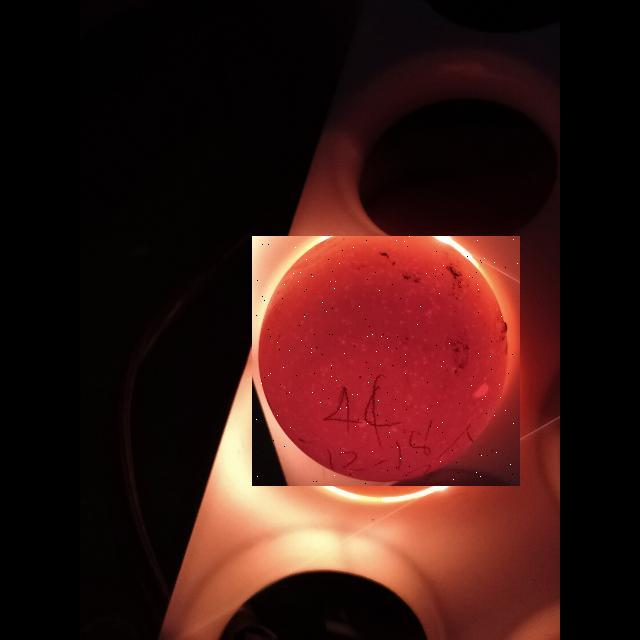Infertile: (252, 236, 520, 486)
